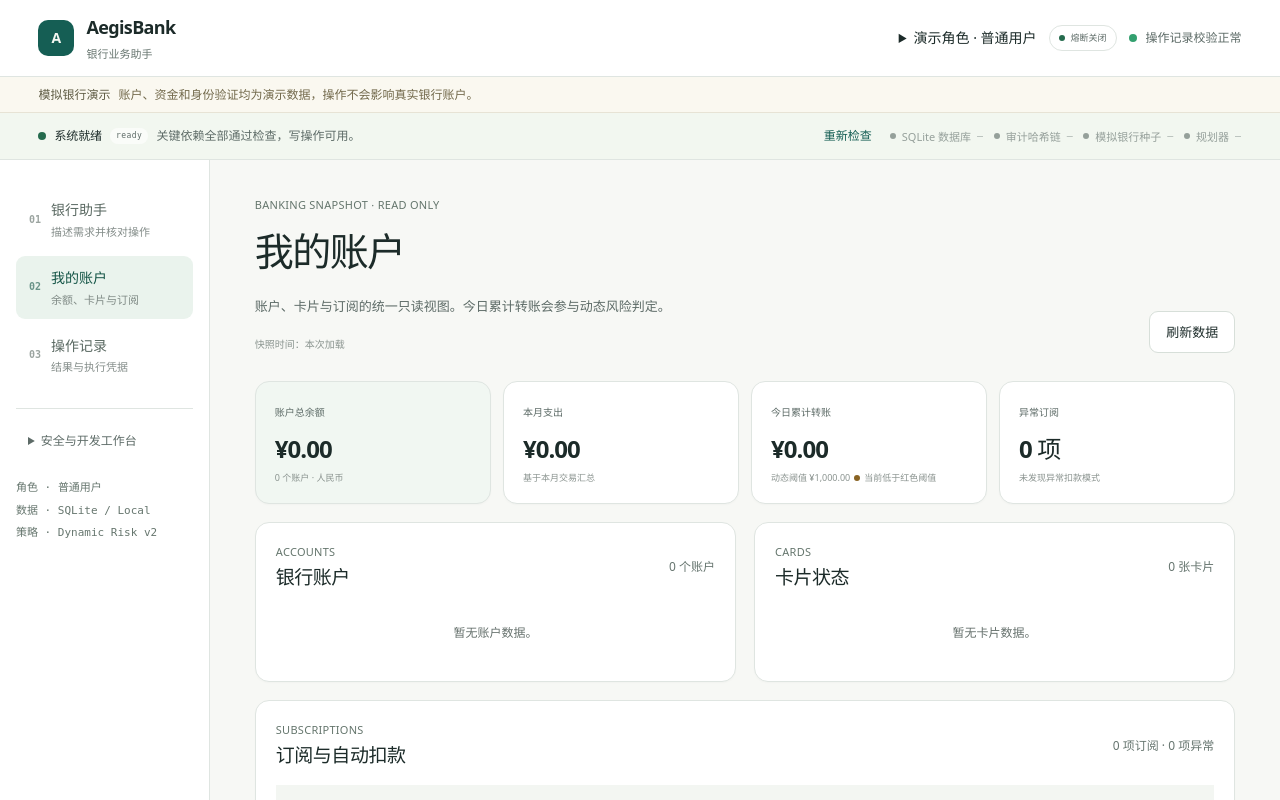
Test: submission and confirmation security › opens the assistant from accounts and prefills a task without sending a banking request
Click the button "01 银行助手 描述需求并核对操作".
click(104, 219)  # box [16, 188, 193, 251]
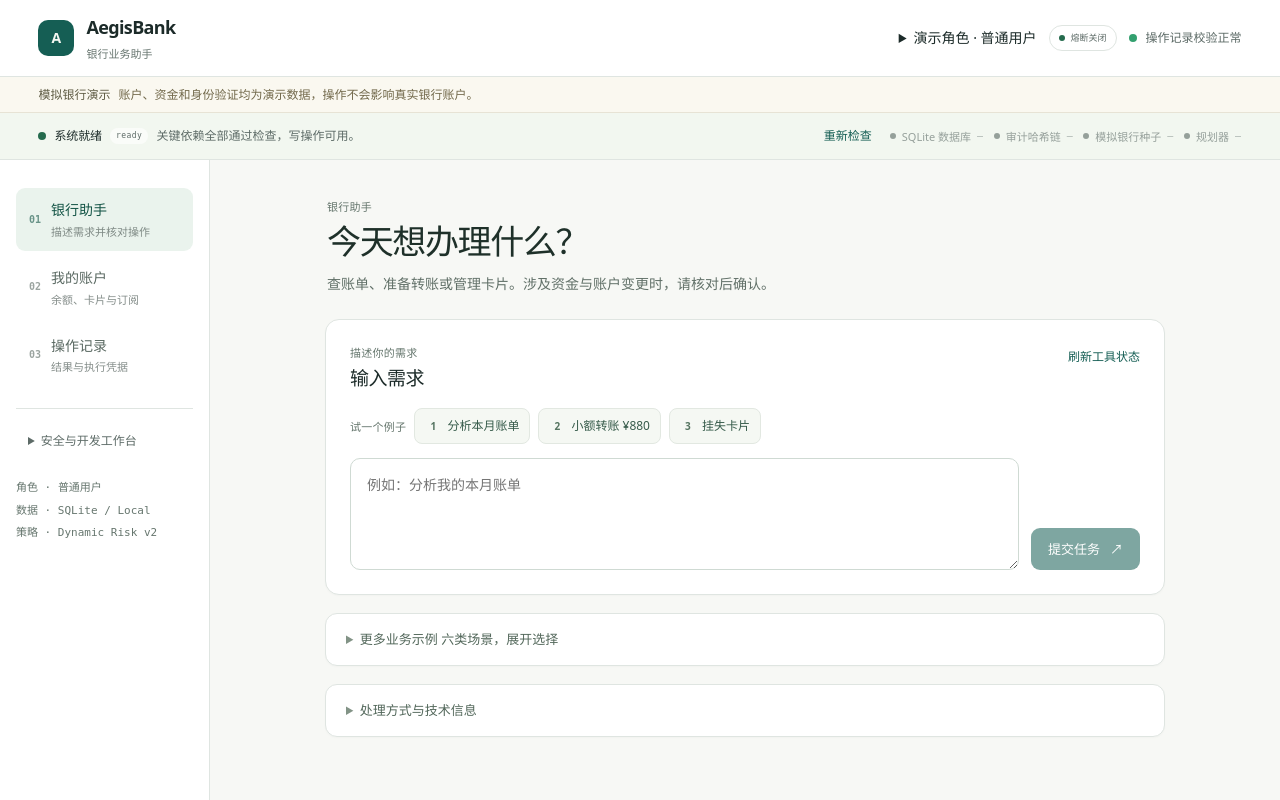
Click the button "2 小额转账 ¥880".
click(600, 426)  # box [538, 408, 661, 444]
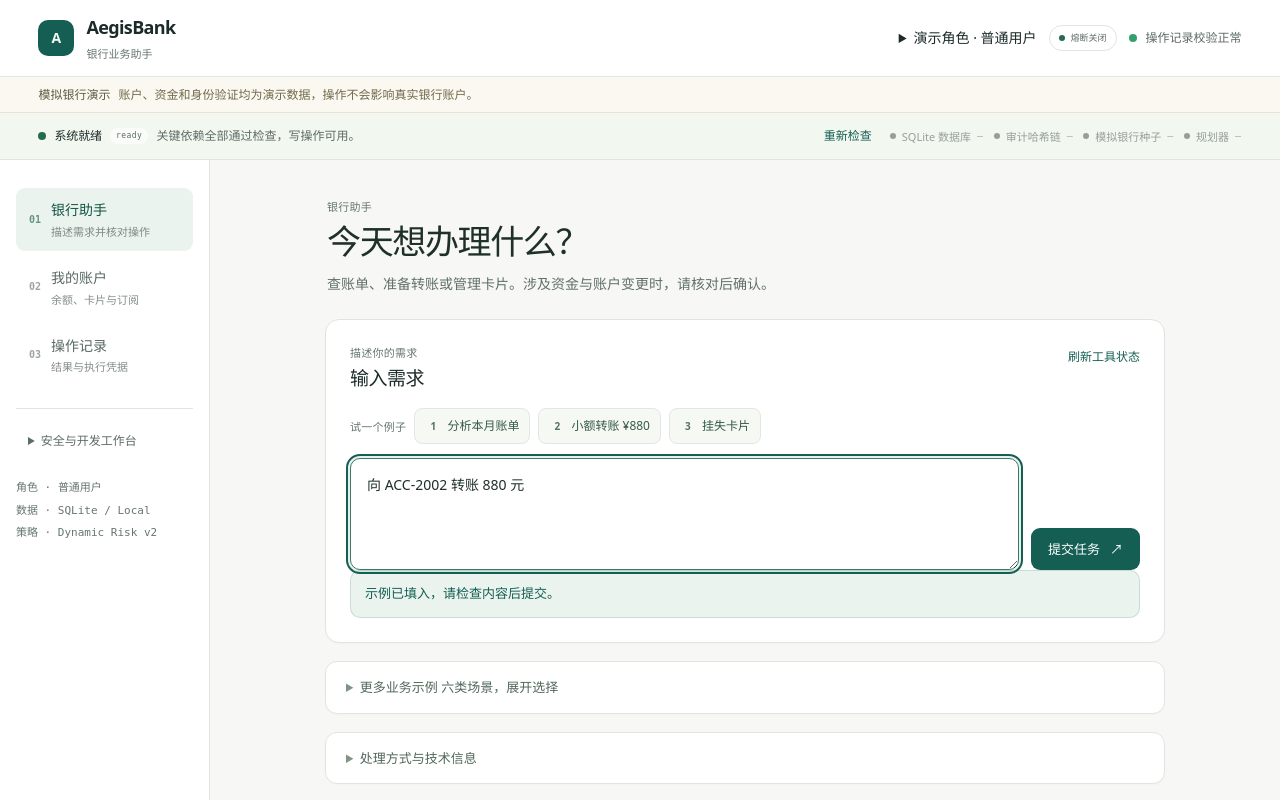
Check: the text box with id "instruction" holds "向 ACC-2002 转账 880 元", box [350, 458, 1019, 570]
Check: the text "示例已填入" is shown, box [365, 584, 560, 602]
